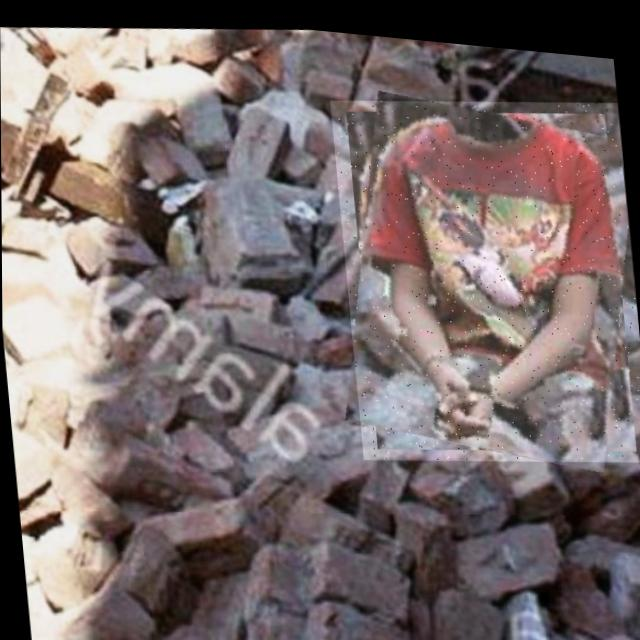Person in Rubble: (329, 68, 640, 473)
